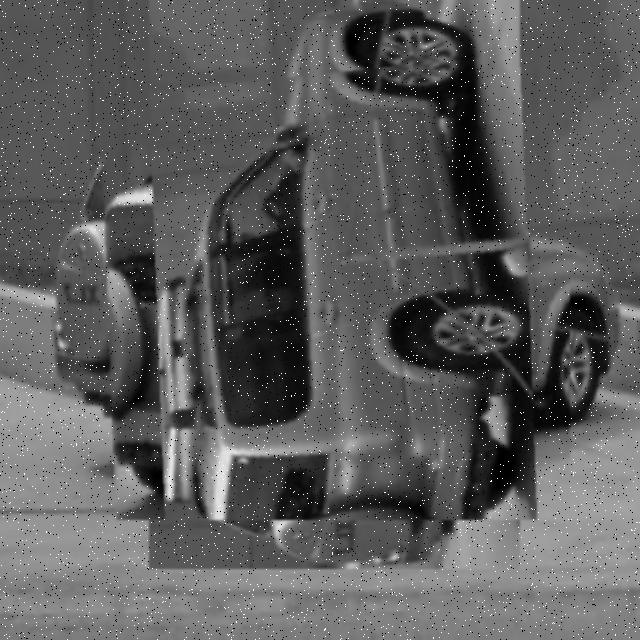car: (101, 49, 571, 521)
